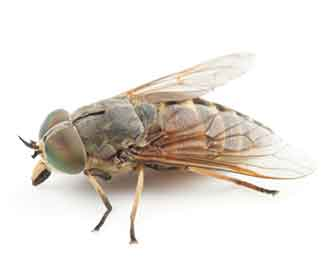green bottles flies: (14, 28, 316, 253)
